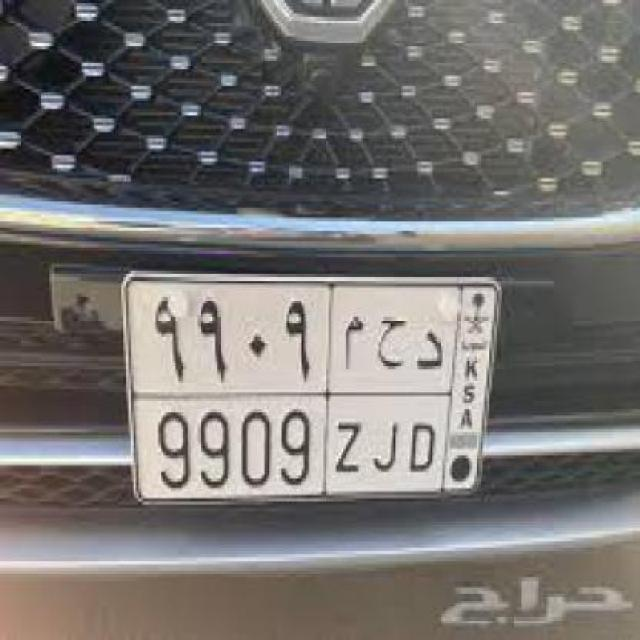license_plate: (119, 266, 502, 506)
